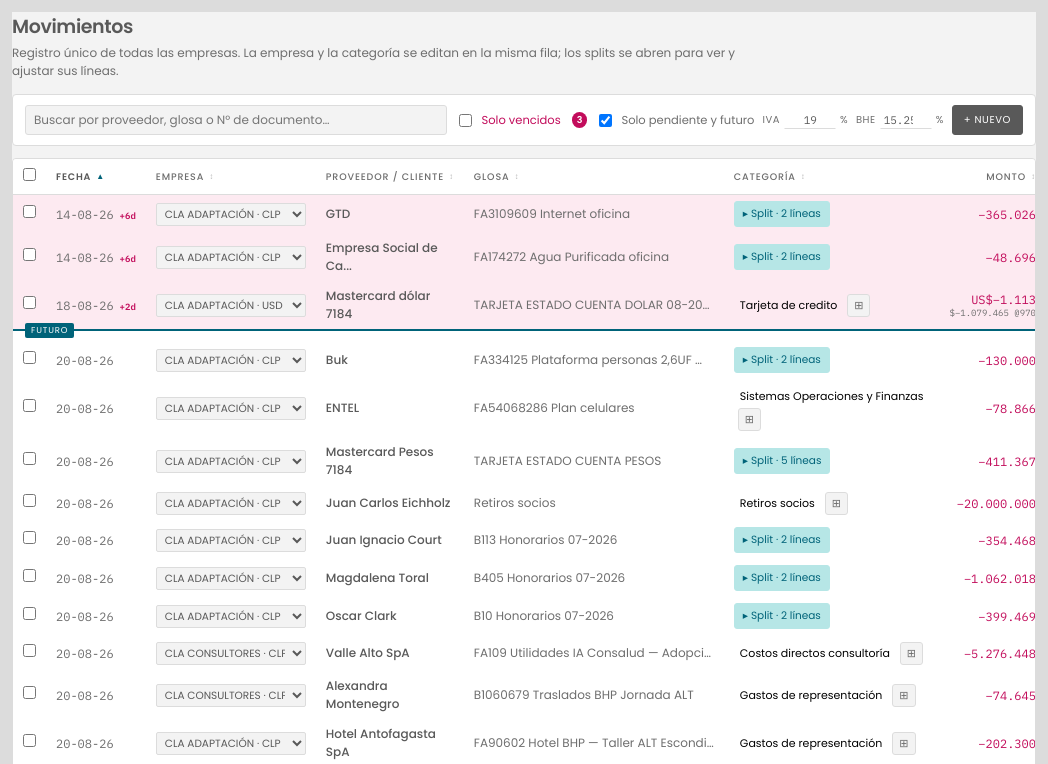
Seleccionar y sumar › suma lo seleccionado y dice cuántos son
The image size is (1048, 764).
Click the checkbox named "Seleccionar GTD del 14-08-26": (30,212) [23, 205, 36, 218]
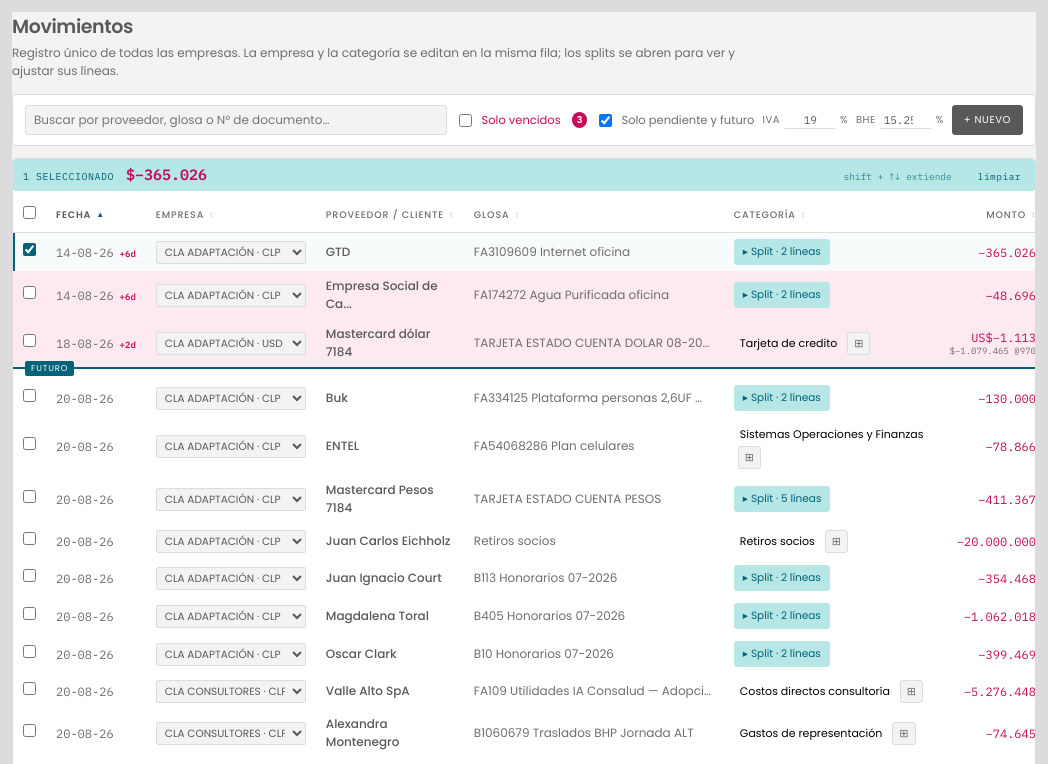
Click the checkbox named "Seleccionar Empresa Social de Ca... del 14-08-26": (30,292) [23, 286, 36, 299]
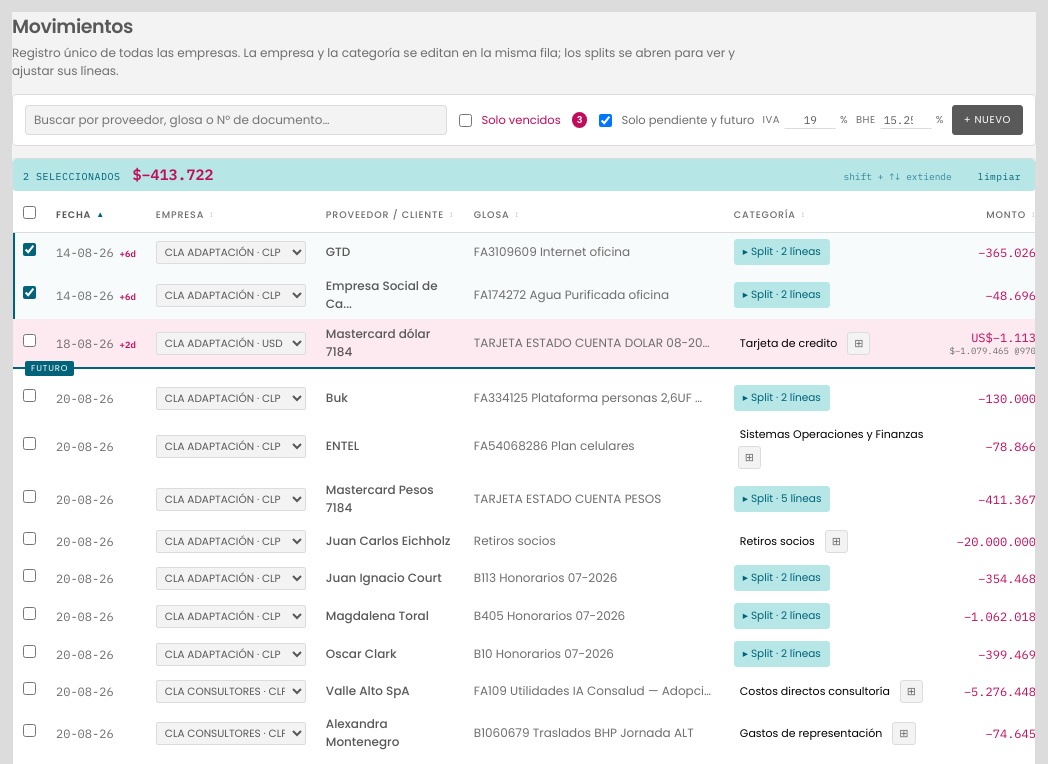
Result: the message shows "2 seleccionados" at [13, 159, 1035, 191]
